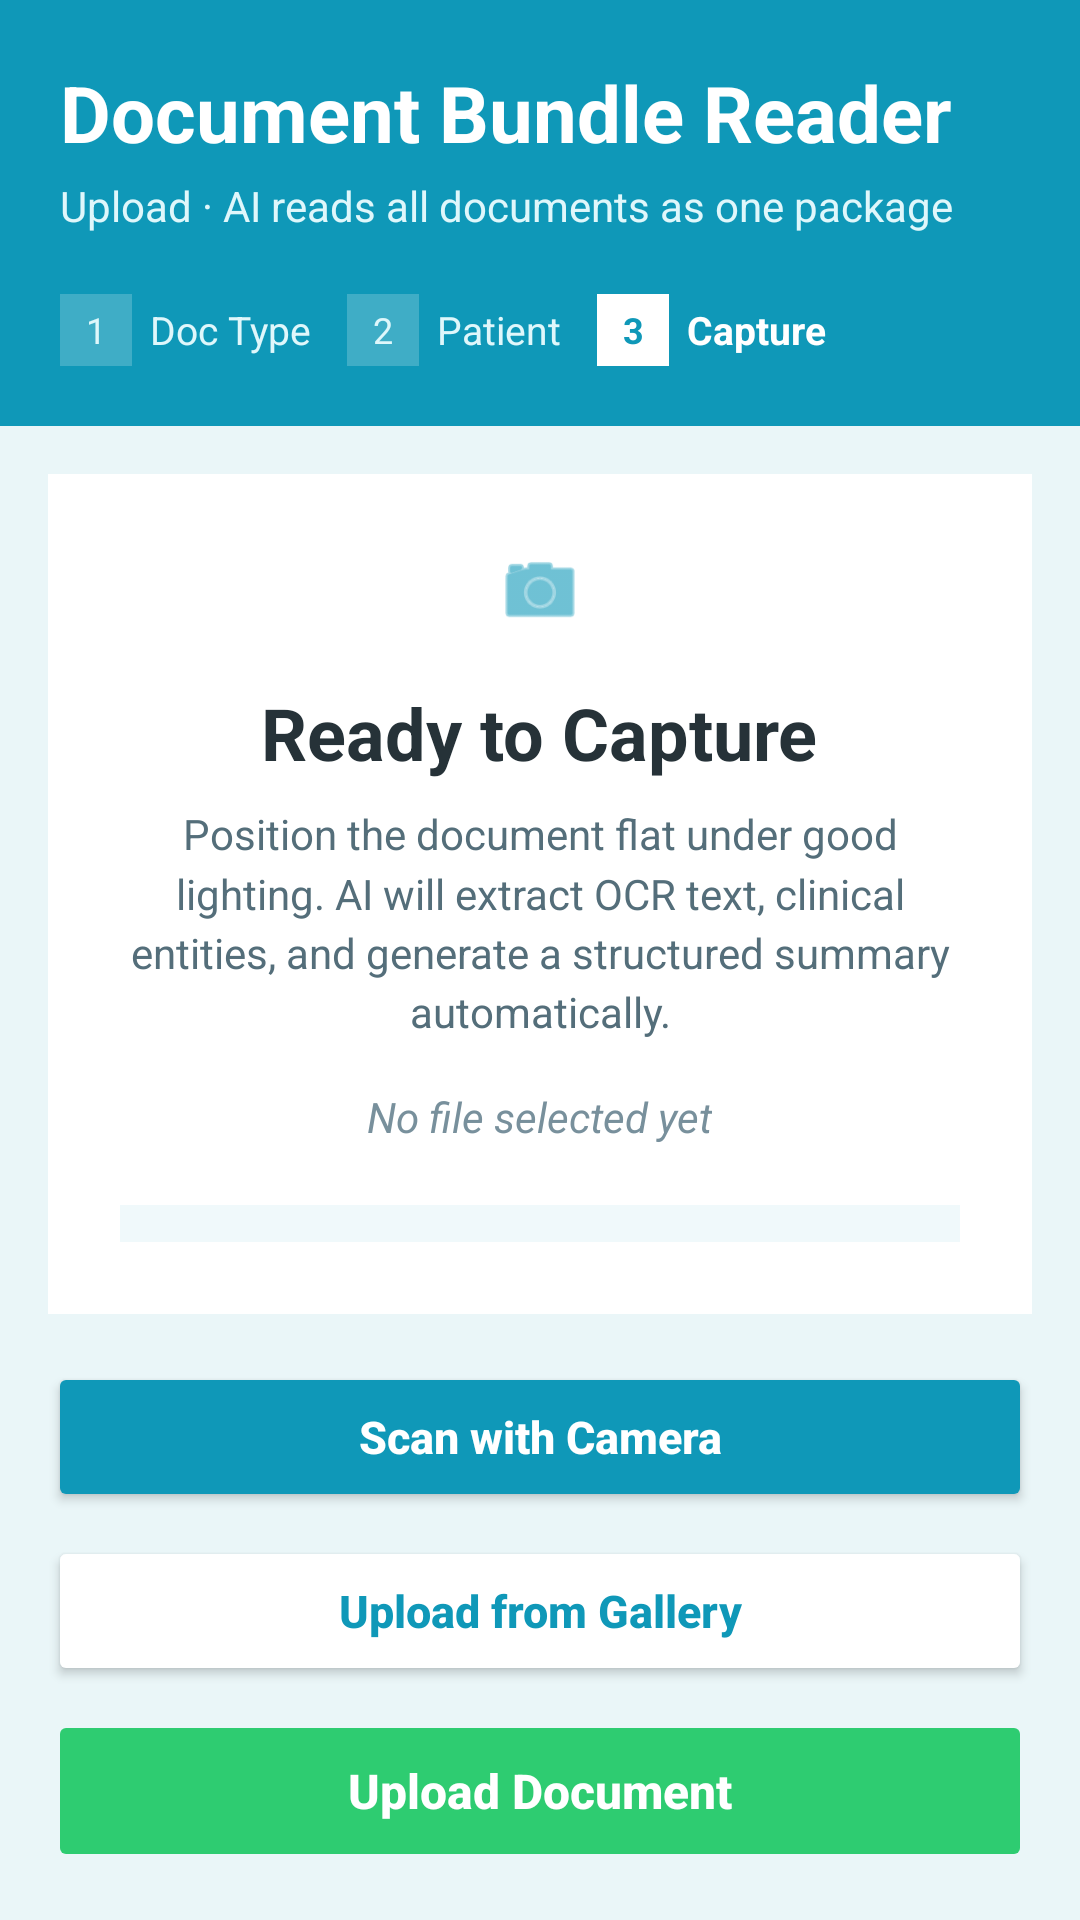

Icons on this 1080×1920 Android screen, each with its box as (x1, y1, x2, y2):
camera: (505, 562, 575, 617)
